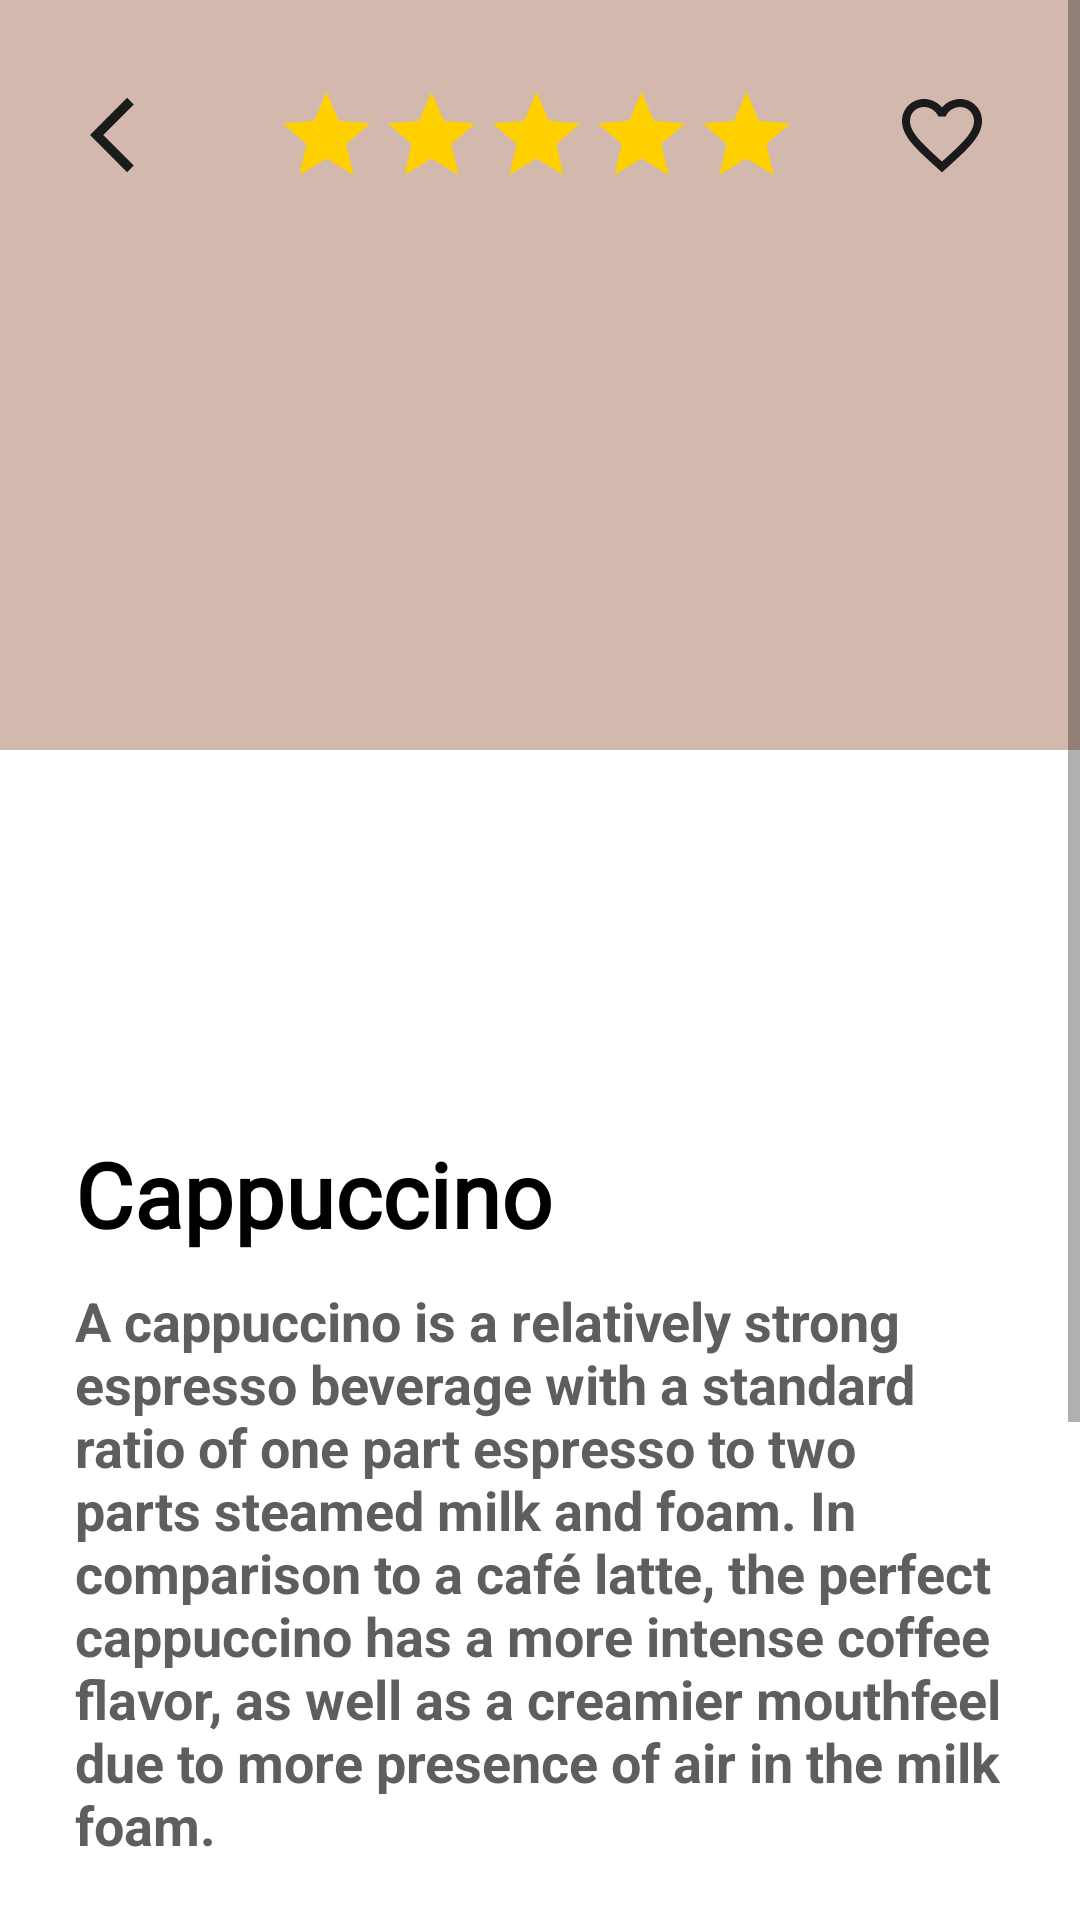

Named icons in this screenshot (1080 x 1920) and their centers, point (x, y):
return back: point (112, 135)
star: point (326, 133), point (431, 133), point (536, 133), point (641, 133), point (746, 133)
unfilled like: point (942, 135)
